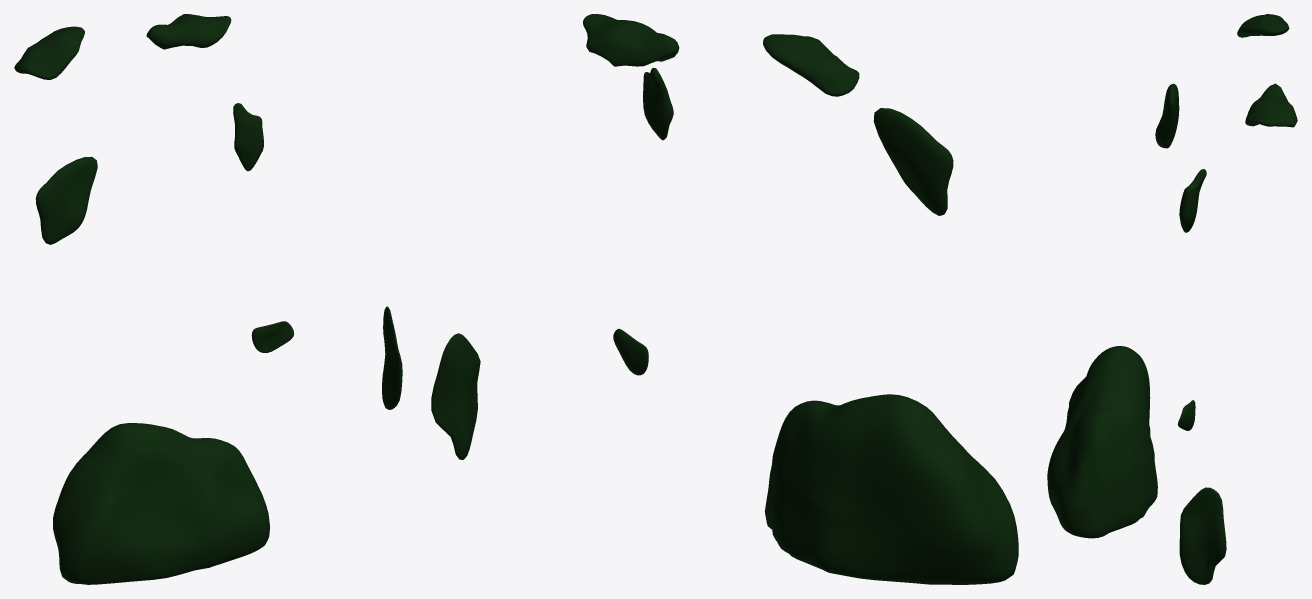
Rendered from LightBush.obj.
3 renders of one model, left to right at view 1: azimuth 30°, elevation 25°; view 2: azimuth 150°, elevation 25°; view 3: azimuth 270°, elevation 25°, orthographic. The views are drawn at different scales.
Visible parts, largest first — view 1: polySurface15 polySurface33, polySurface15 polySurface23, polySurface15 polySurface22, polySurface15 polySurface35, polySurface26 polySurface15, polySurface15 polySurface29, polySurface15 polySurface28; view 2: polySurface15 polySurface33, polySurface15 polySurface23, polySurface26 polySurface15, polySurface15 polySurface35, polySurface15 polySurface22, polySurface15 polySurface29, polySurface15 polySurface28; view 3: polySurface15 polySurface33, polySurface26 polySurface15, polySurface15 polySurface35, polySurface15 polySurface23, polySurface15 polySurface22, polySurface15 polySurface29, polySurface15 polySurface28.
Boxes of the visible parts, x1,y1,x2,y2 form: polySurface15 polySurface33: (53,423,269,584); polySurface15 polySurface23: (35,156,97,244); polySurface15 polySurface22: (14,26,84,79); polySurface15 polySurface35: (146,14,231,49); polySurface26 polySurface15: (382,306,402,409); polySurface15 polySurface29: (233,103,263,171); polySurface15 polySurface28: (251,321,294,352); polySurface15 polySurface33: (764,394,1018,584); polySurface15 polySurface23: (873,108,953,215); polySurface26 polySurface15: (431,333,480,459); polySurface15 polySurface35: (583,14,679,66); polySurface15 polySurface22: (763,34,859,96); polySurface15 polySurface29: (643,67,673,140); polySurface15 polySurface28: (613,328,648,375); polySurface15 polySurface33: (1047,346,1157,538); polySurface26 polySurface15: (1179,487,1226,584); polySurface15 polySurface35: (1245,83,1297,127); polySurface15 polySurface23: (1155,83,1179,148); polySurface15 polySurface22: (1237,14,1289,37); polySurface15 polySurface29: (1179,169,1206,232); polySurface15 polySurface28: (1178,400,1195,430).
Size of the model in its own units: 6.7 by 7.66 by 3.68.
